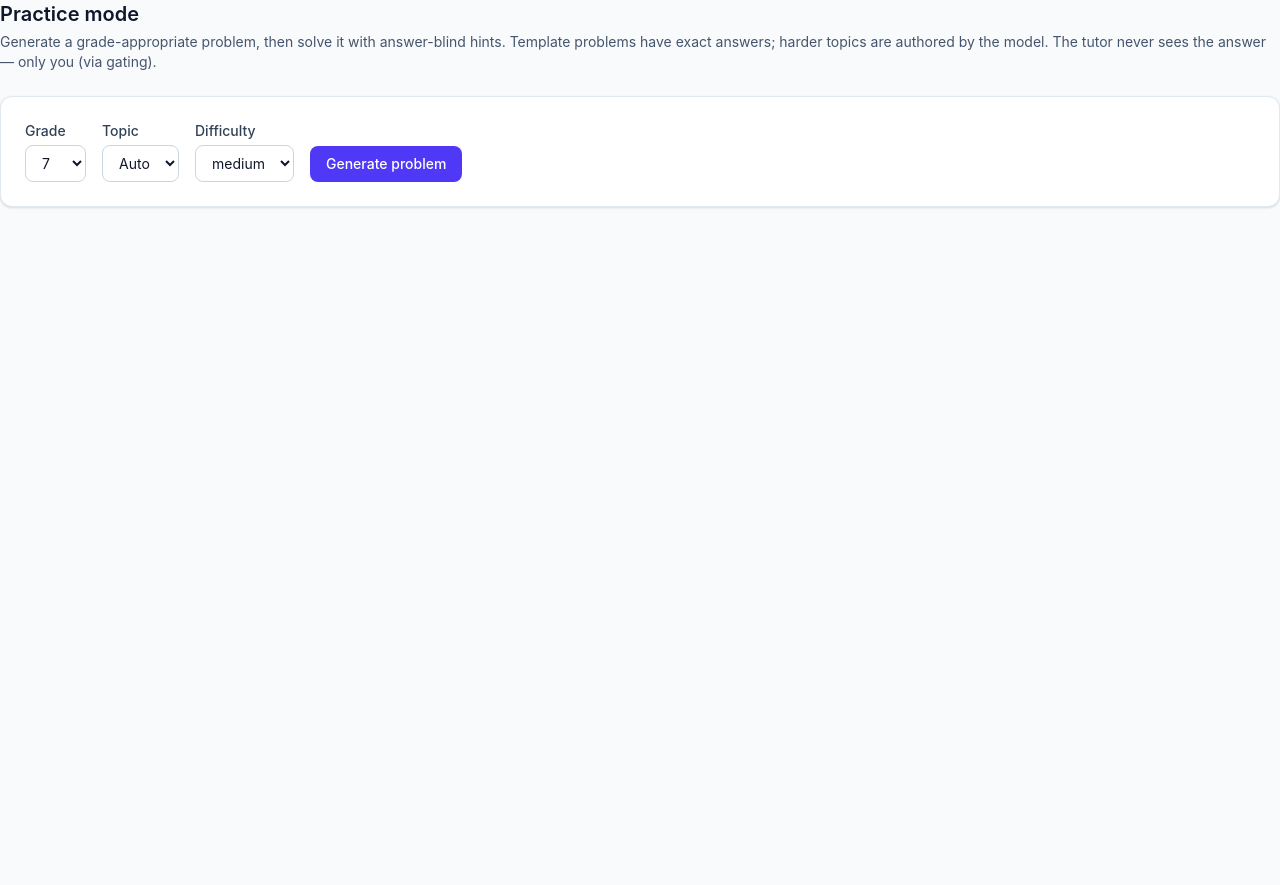
Test: admin › reveals the stored answer for an admin on demand
Step 1. Click the button "Generate problem" → x=386, y=164, box top-left (310, 146), bottom-right (462, 182)
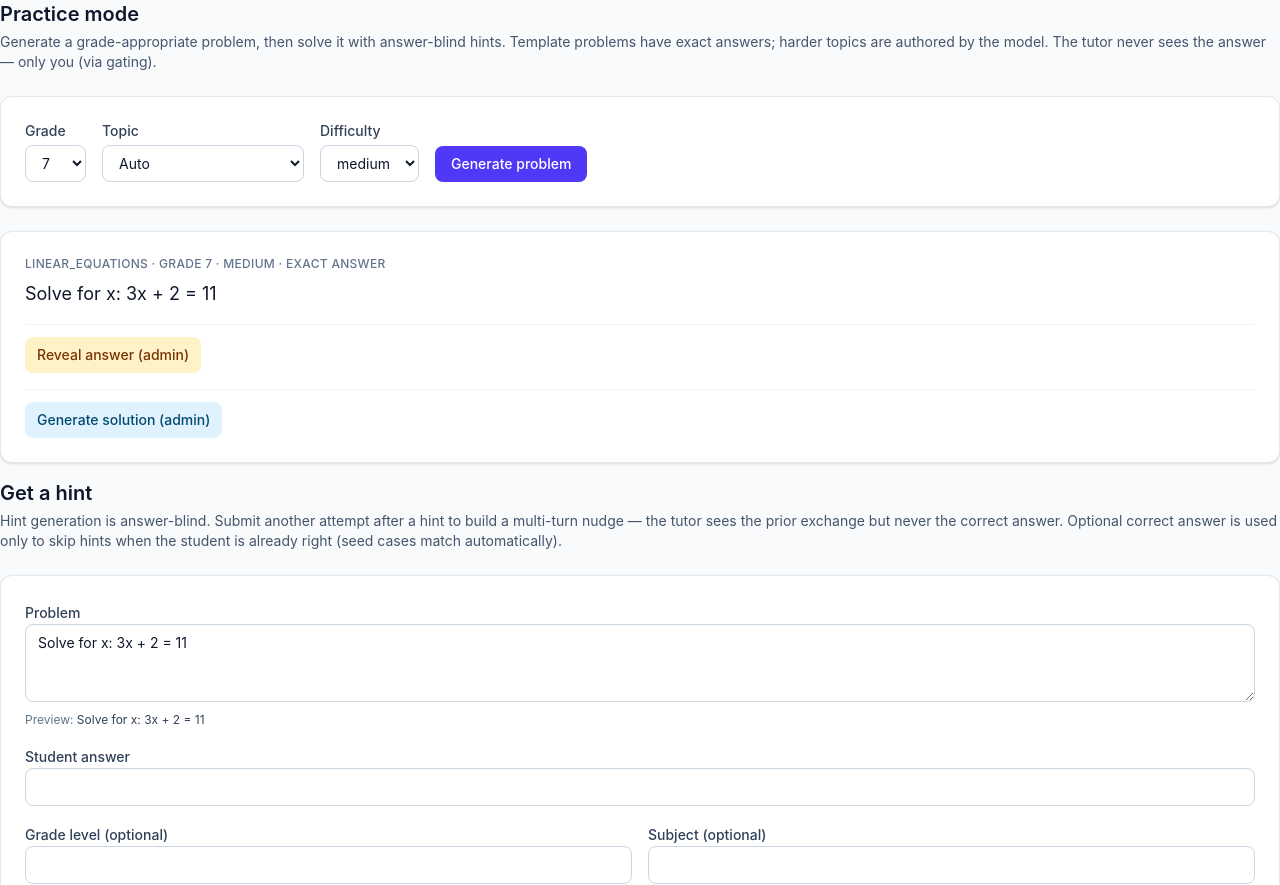
Expected: the text "x = 3" is not shown
Step 2. Click the button "Reveal answer (admin)" → x=113, y=355, box top-left (25, 337), bottom-right (201, 373)
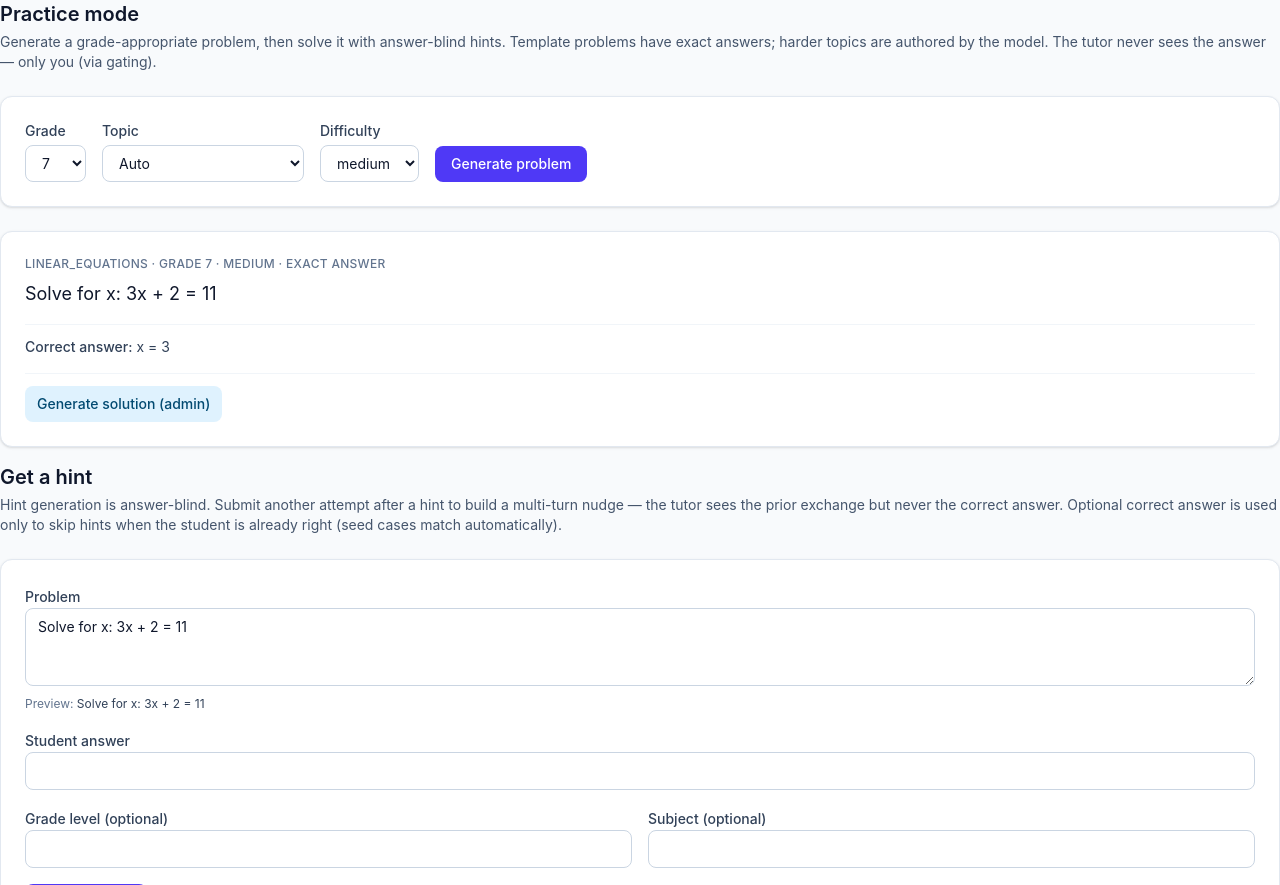
Result: the text "x = 3" is shown at top-left (136, 338), bottom-right (170, 355)
